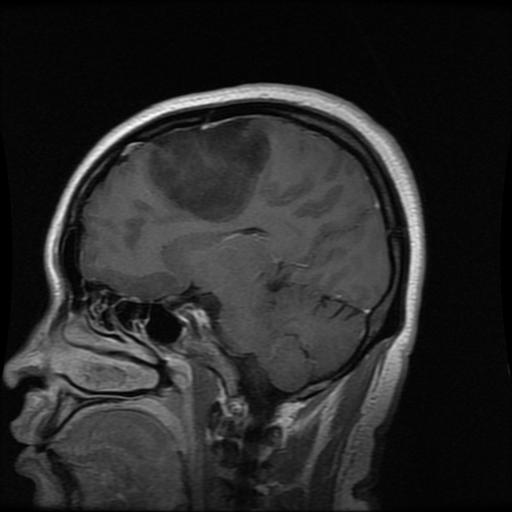Gliomia_tumour: (149, 117, 270, 221)
